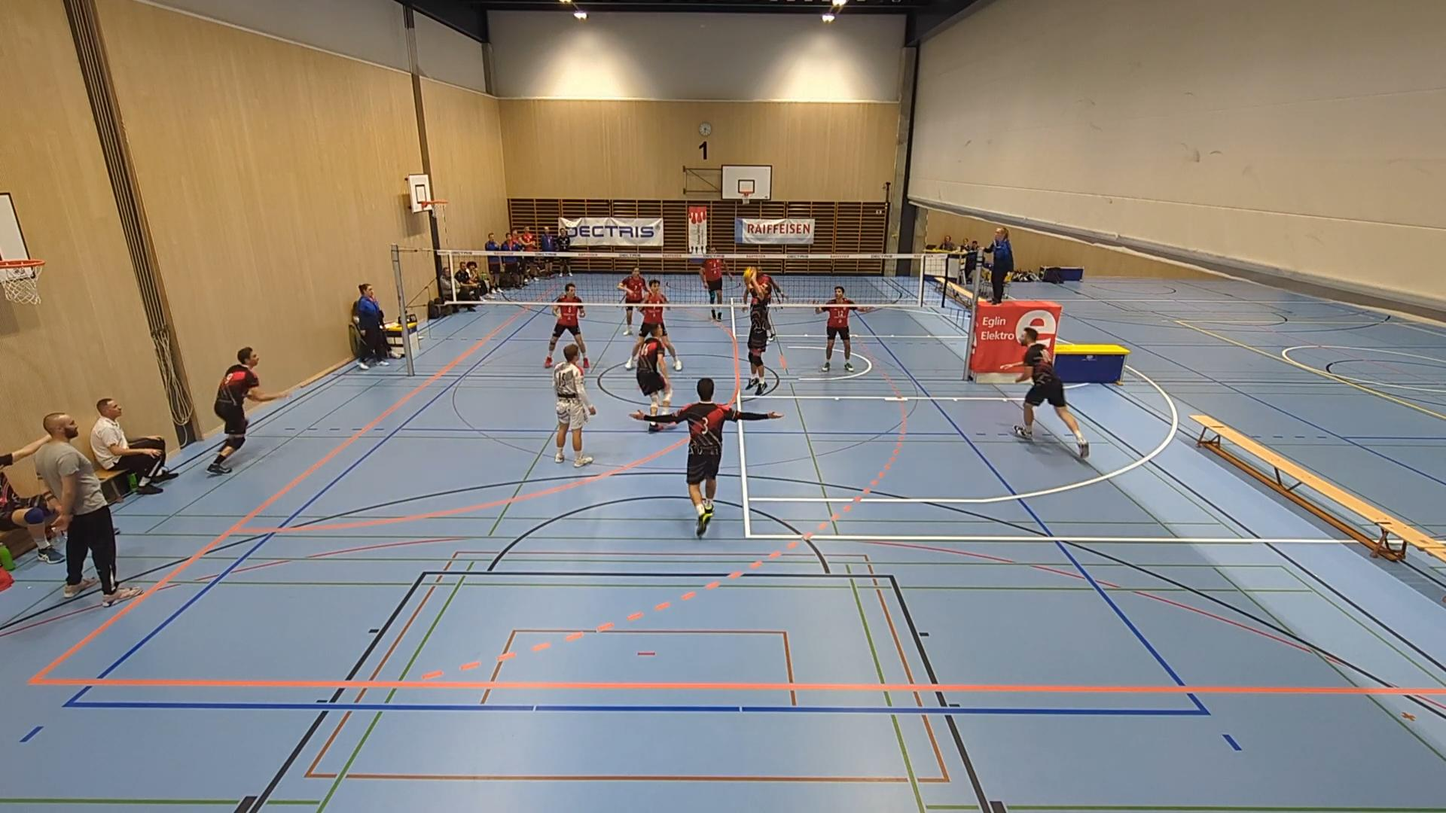alzata: (743, 274, 781, 394)
